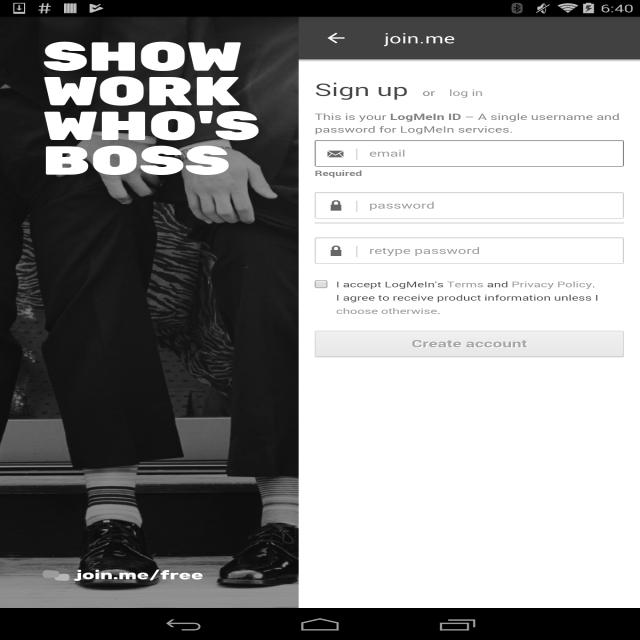Button: (315, 331, 624, 356)
CheckBox: (315, 278, 624, 318)
EditText: (315, 140, 624, 167), (315, 192, 624, 219), (315, 237, 624, 264)
ImageButton: (307, 17, 367, 59)
ImageView: (0, 17, 640, 608), (42, 570, 202, 582)
TextView: (43, 32, 280, 188), (384, 29, 455, 47)
